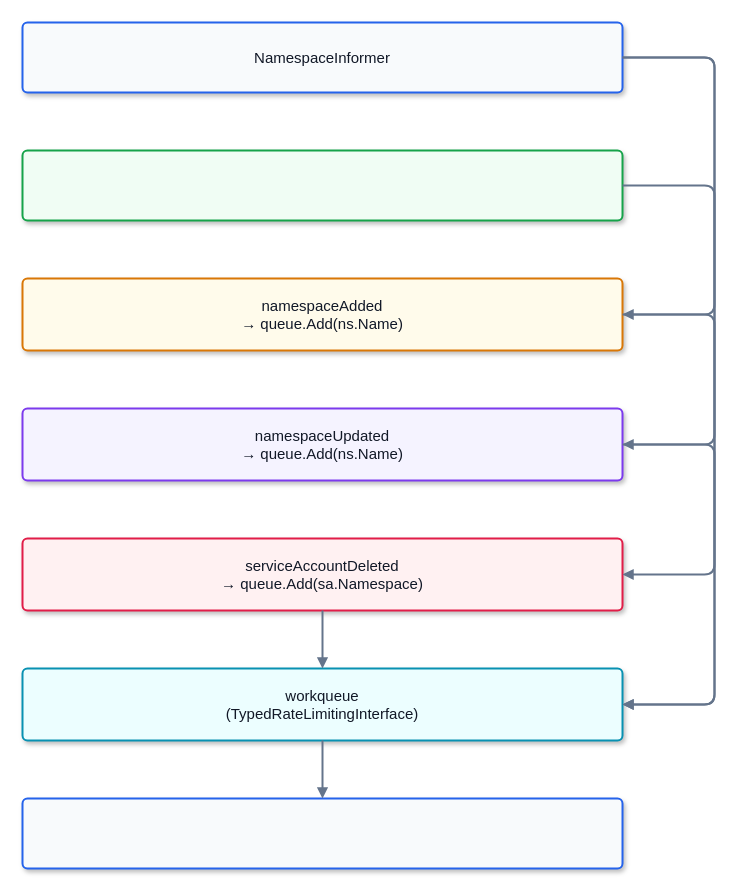
Image size: 740x893. Some labels were removed from this diagram. The shapes that lost their labels are listed below. From the top down, each one's centre as x and y in pixels, then its label:
At point (323, 186): "ServiceAccountInformer".
At point (323, 834): "syncNamespace(key)".
